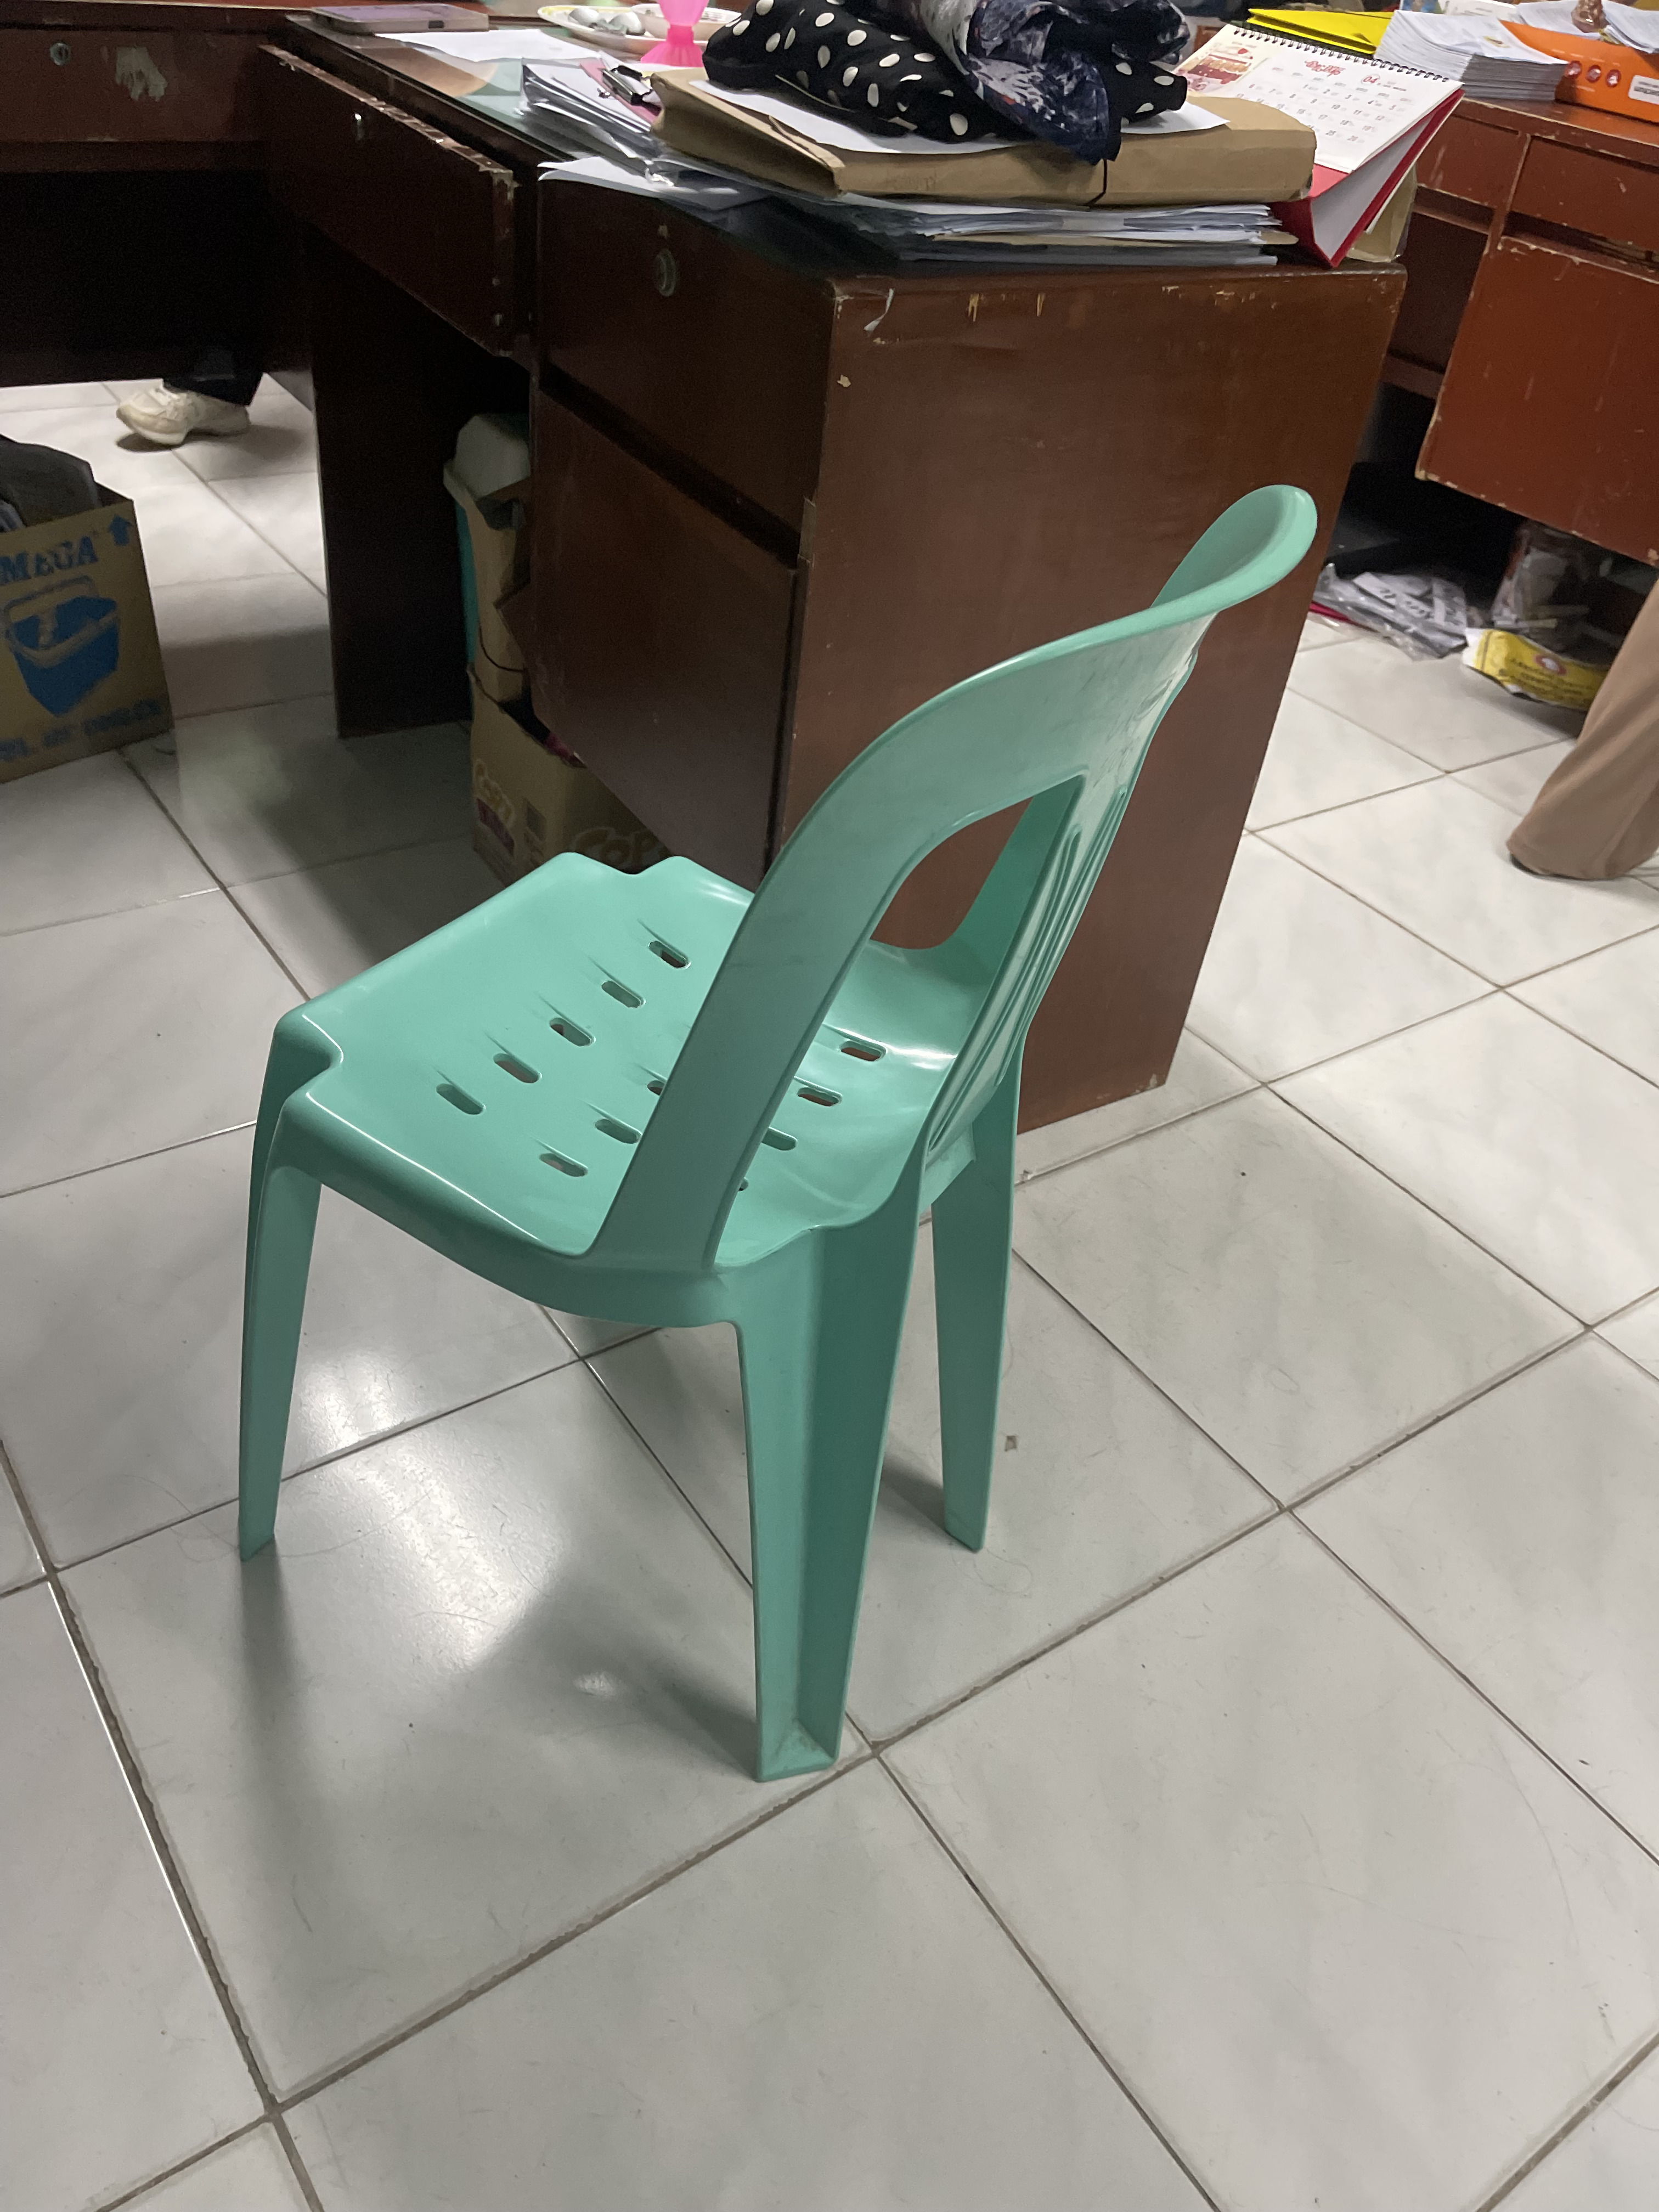chair2: (214, 469, 1337, 1803)
